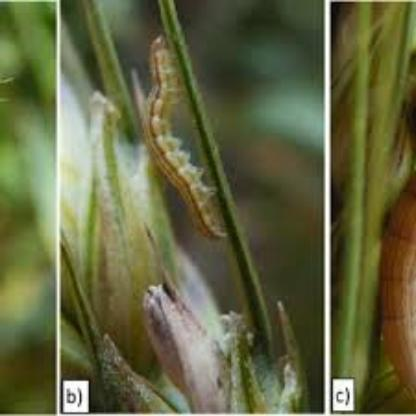oruga: (141, 36, 238, 246)
